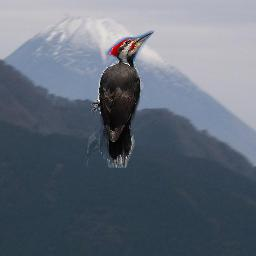Woodpecker: (86, 30, 158, 168)
